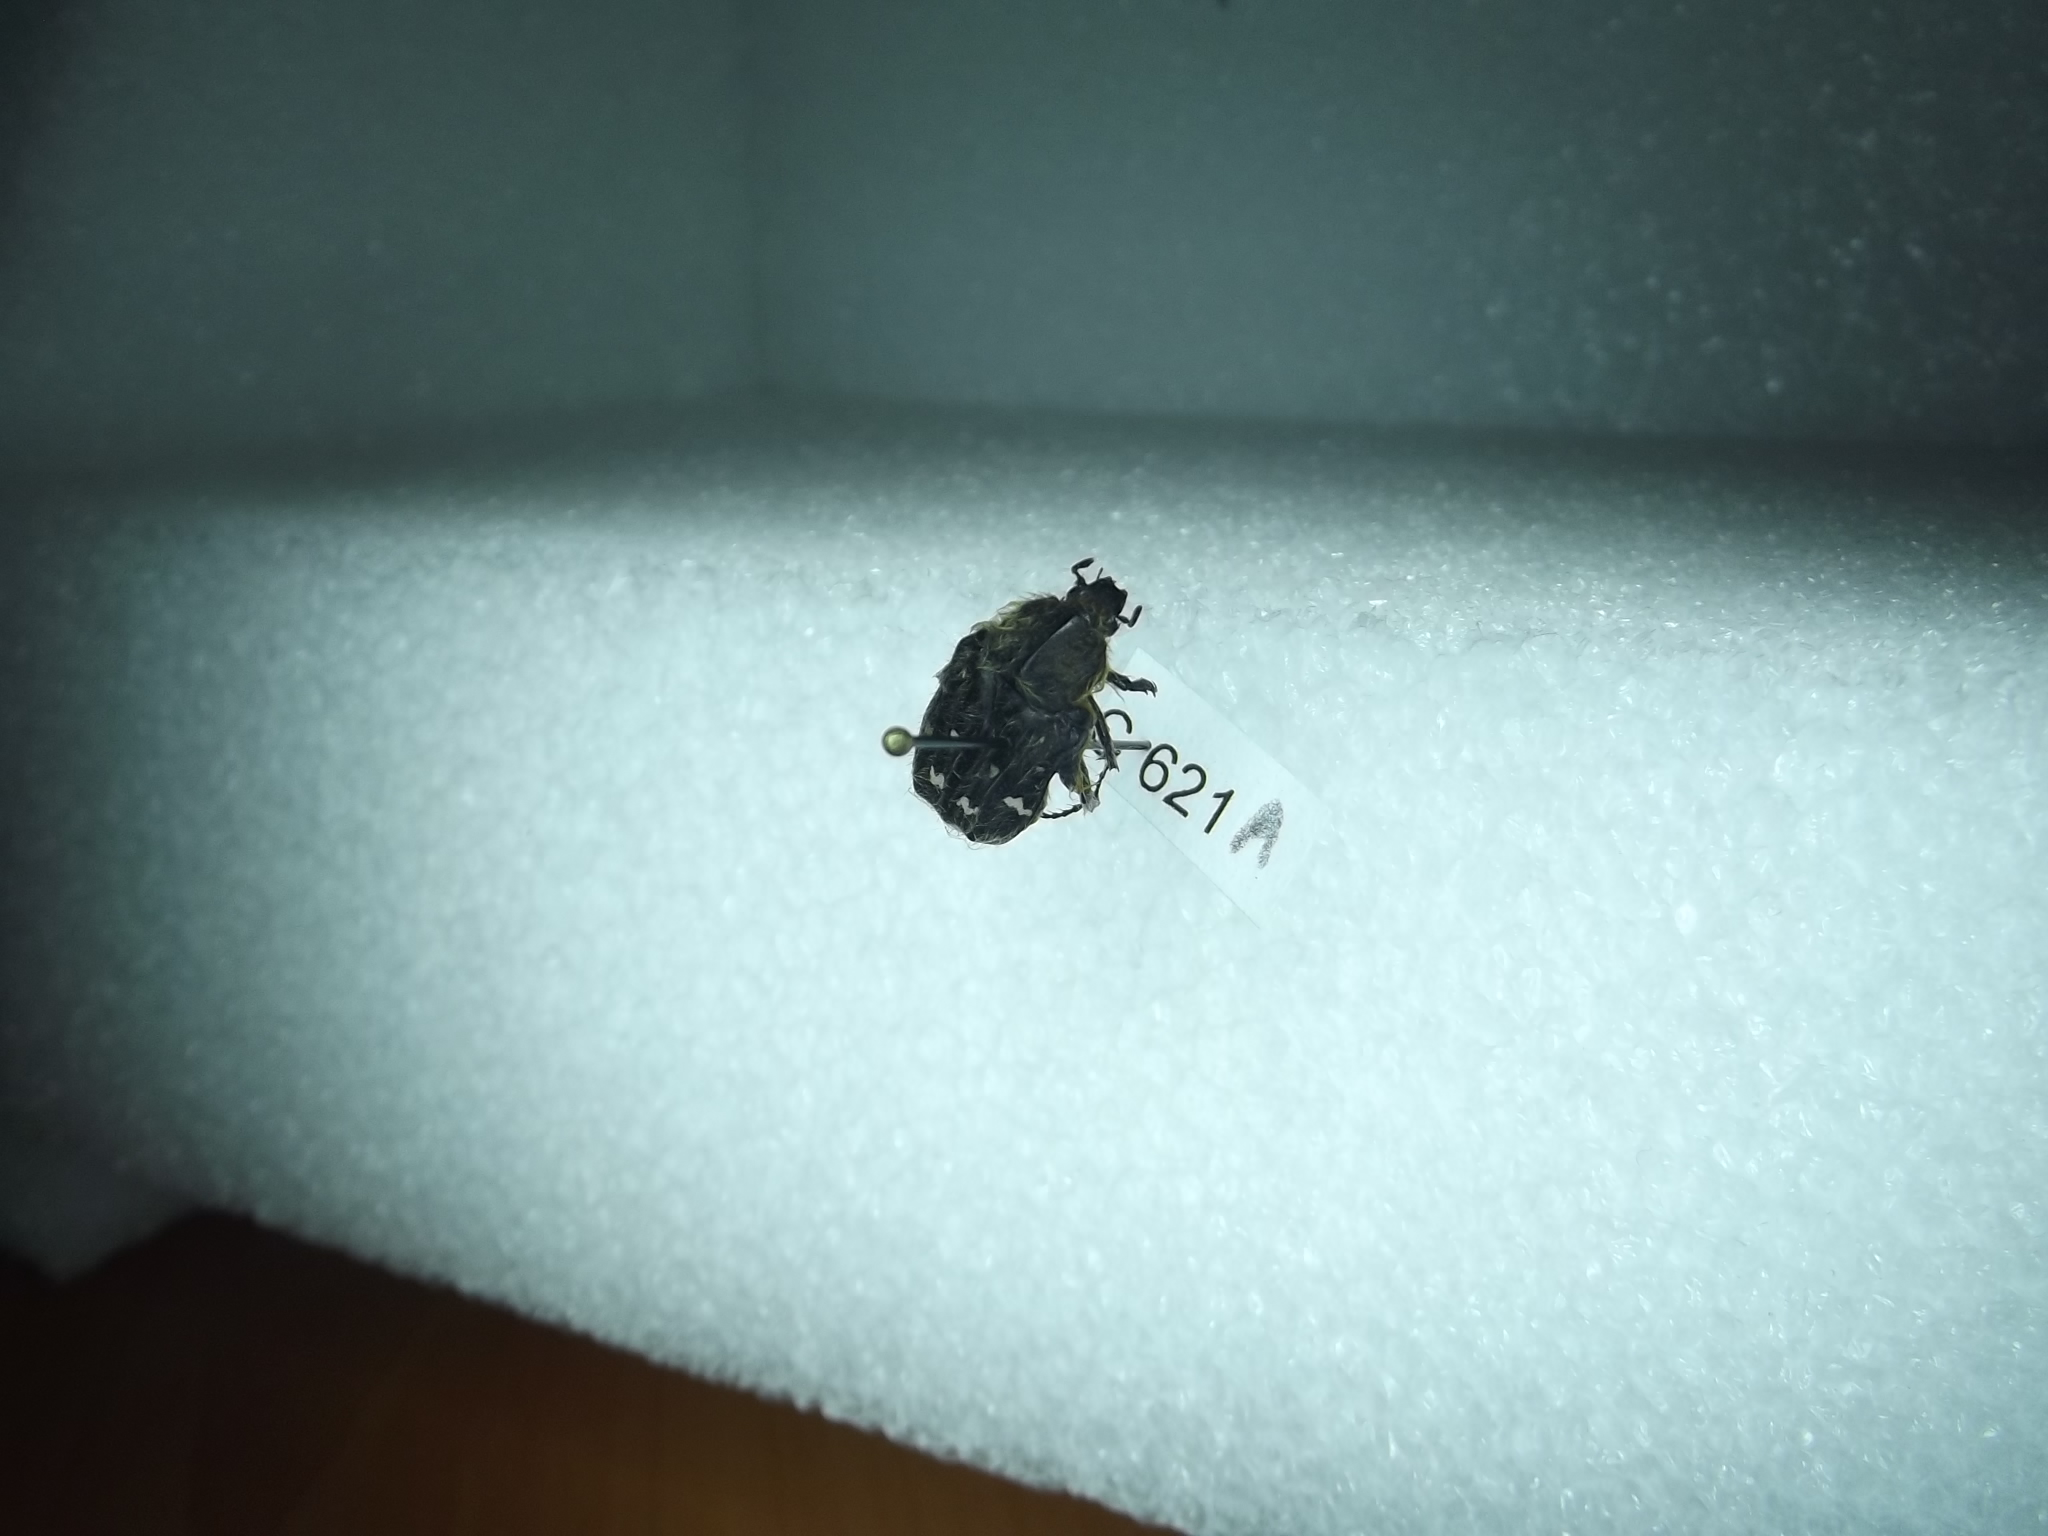Tropinota_senicula: (901, 549, 1171, 850)
